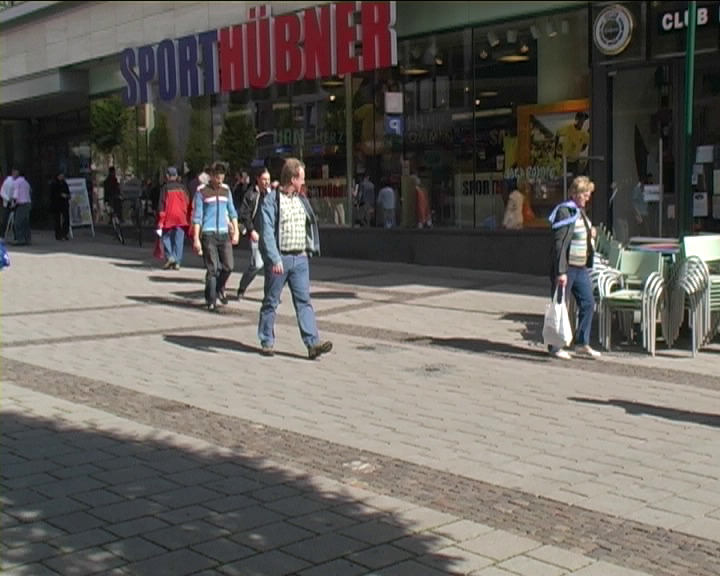deflection: (262, 158, 318, 228)
